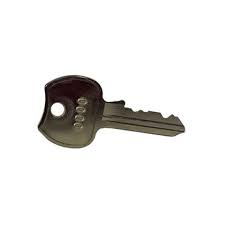kicharina: (30, 73, 185, 151)
